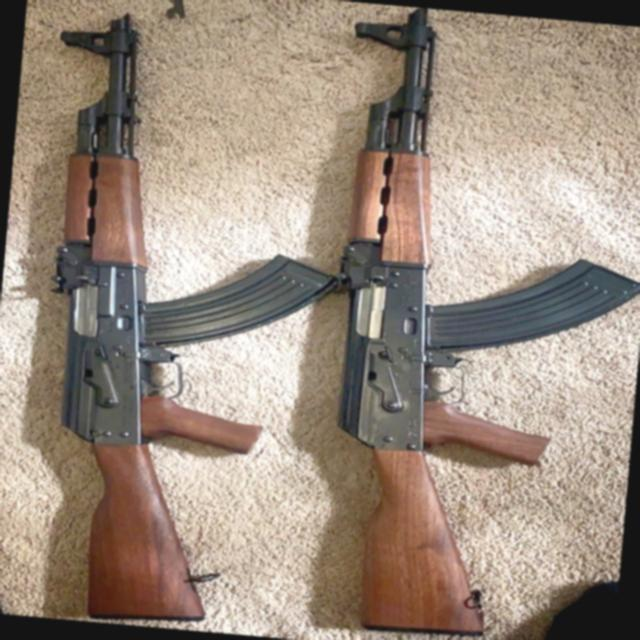ak: (291, 9, 640, 640)
